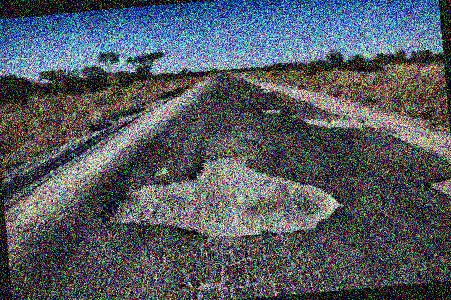pothole: (93, 144, 346, 250), (300, 108, 364, 134), (422, 172, 451, 198), (148, 165, 170, 178), (257, 105, 281, 115)
